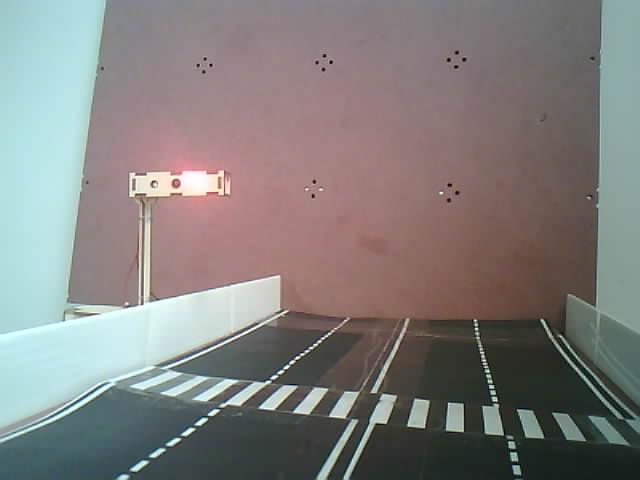crosswalk: (125, 379, 627, 425)
red: (121, 159, 250, 300)
